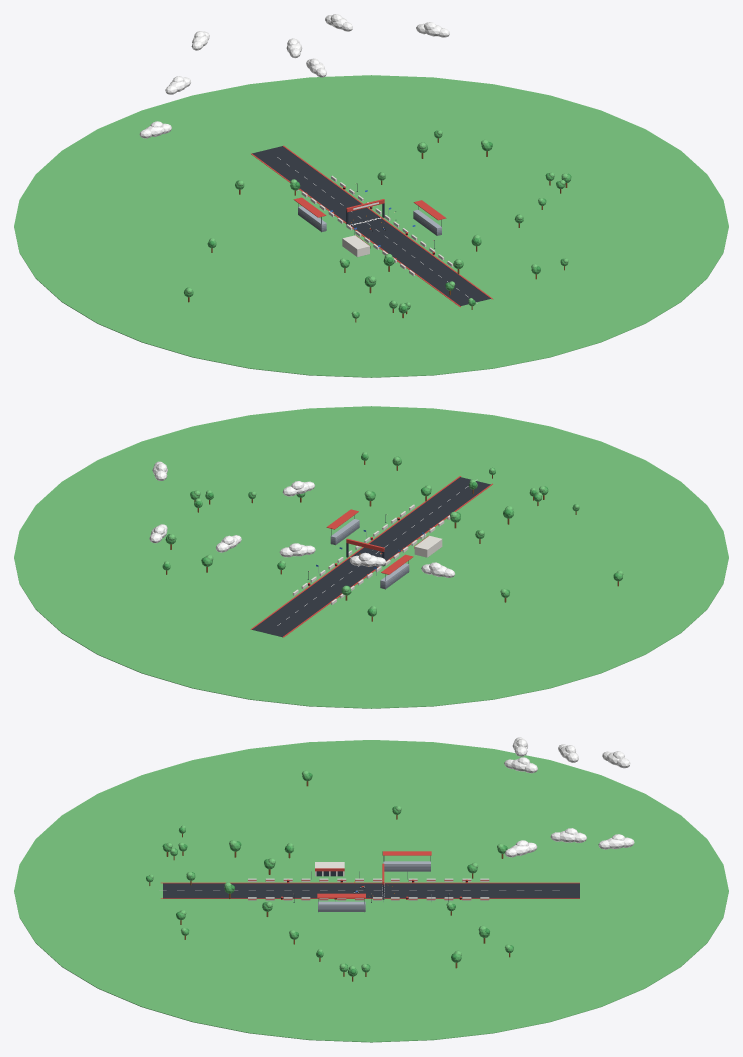
The model's file is Motor_World.fbx.
3 renders of one model, top to bottom at view 1: azimuth 30°, elevation 25°; view 2: azimuth 150°, elevation 25°; view 3: azimuth 270°, elevation 25°, orthographic.
Visible parts, largest first — view 1: Ground.001, Track.001, Grandstand.002; view 2: Ground.001, Track.001, Grandstand.002, Grandstand.001; view 3: Ground.001, Track.001, Grandstand.002, Grandstand.001.
Boxes of the visible parts, bbox=[...] form: Ground.001: bbox=[14, 75, 728, 377]; Track.001: bbox=[251, 145, 493, 307]; Grandstand.002: bbox=[413, 200, 446, 235]; Ground.001: bbox=[14, 406, 728, 708]; Track.001: bbox=[250, 476, 492, 637]; Grandstand.002: bbox=[326, 509, 359, 545]; Grandstand.001: bbox=[380, 554, 413, 589]; Ground.001: bbox=[14, 740, 728, 1042]; Track.001: bbox=[159, 882, 579, 898]; Grandstand.002: bbox=[317, 893, 365, 911]; Grandstand.001: bbox=[382, 851, 431, 871].
Size of the model in its own units: 240 by 49.08 by 240.
